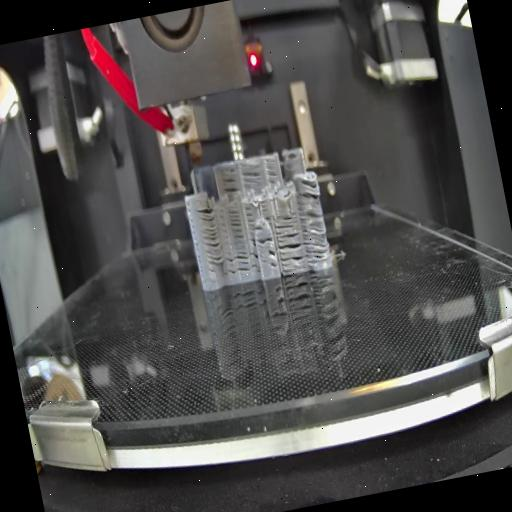cracks: (196, 205, 226, 272), (298, 209, 332, 268), (275, 230, 306, 273), (297, 176, 321, 203), (219, 166, 241, 194), (232, 247, 252, 274), (228, 209, 244, 242), (248, 238, 261, 272), (264, 164, 280, 186), (274, 214, 294, 231), (224, 250, 236, 276), (240, 168, 262, 182), (244, 205, 256, 229), (259, 200, 271, 223), (268, 248, 279, 269), (255, 234, 273, 246), (254, 226, 263, 232)
